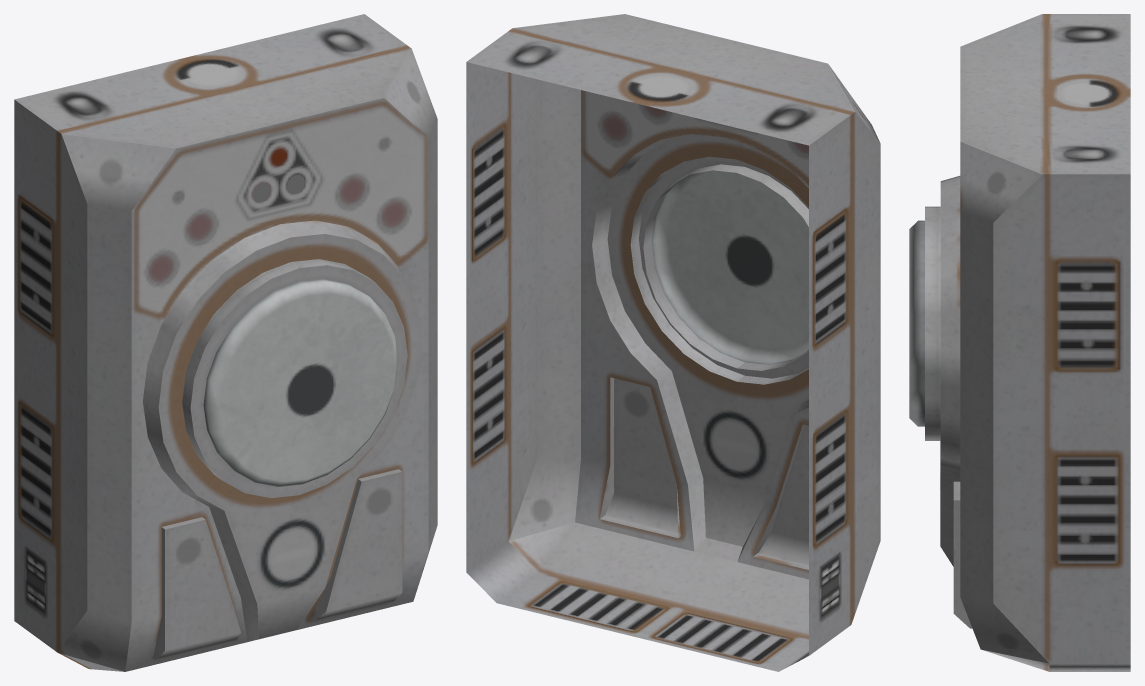
Rendered from Button A1B.fbx.
3 views of the same model, side by side, from view 1: azimuth 30°, elevation 25°; view 2: azimuth 150°, elevation 25°; view 3: azimuth 270°, elevation 25° (orthographic). The views are drawn at different scales.
Visible parts, largest first — view 1: Button A1B, ButtonHandle A1B; view 2: Button A1B, ButtonHandle A1B; view 3: Button A1B, ButtonHandle A1B.
Part boxes in pixels (bbox=[...]): Button A1B: bbox=[14, 14, 437, 671]; ButtonHandle A1B: bbox=[203, 279, 398, 486]; Button A1B: bbox=[466, 14, 880, 671]; ButtonHandle A1B: bbox=[651, 170, 808, 364]; Button A1B: bbox=[925, 14, 1130, 671]; ButtonHandle A1B: bbox=[909, 220, 924, 426].
Bounding box in the file's own units: 13.77 × 20.49 × 8.04.
Materials: 3 (1 with a texture image).
